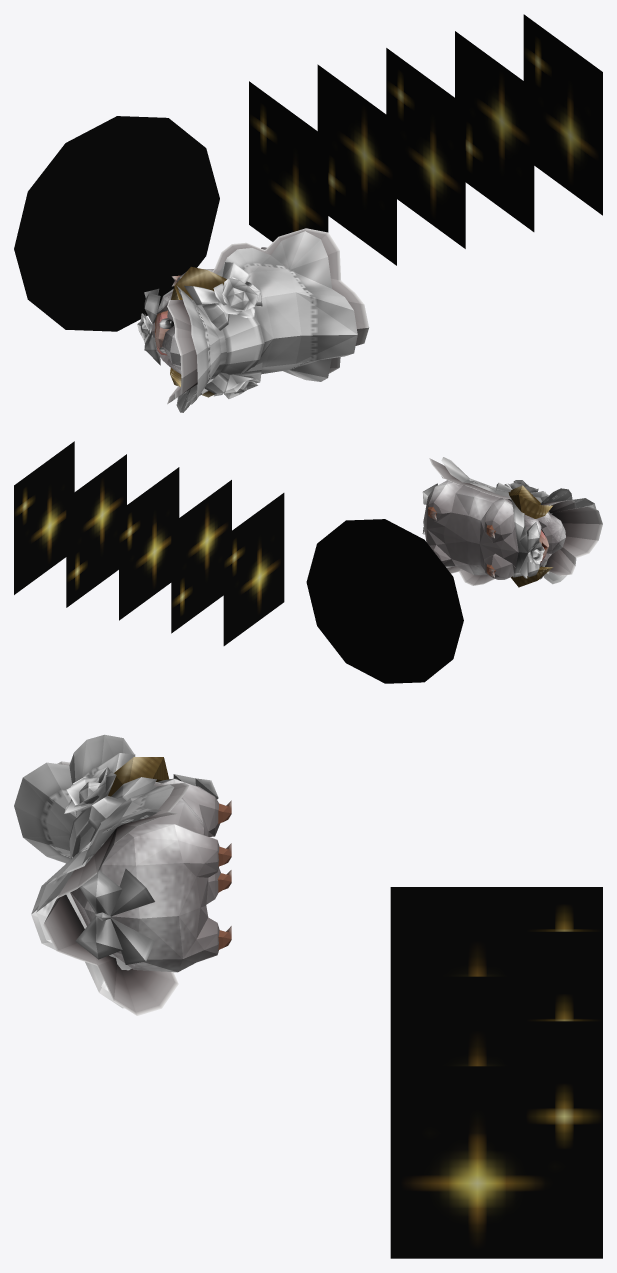
3 views of the same model, one above another, from view 1: azimuth 30°, elevation 25°; view 2: azimuth 150°, elevation 25°; view 3: azimuth 270°, elevation 25° (orthographic). The views are drawn at different scales.
Parts seen in each view (by area): view 1: M_0028_1, M_0028_0; view 2: M_0028_1, M_0028_0; view 3: M_0028_1, M_0028_0.
Boxes of the visible parts, x1,y1,x2,y2 form: M_0028_1: (167, 14, 602, 404); M_0028_0: (14, 116, 357, 412); M_0028_1: (14, 441, 602, 645); M_0028_0: (306, 457, 596, 683); M_0028_1: (43, 761, 602, 1258); M_0028_0: (14, 734, 231, 1008).
Bounding box in the file's own units: 5.84 × 2.16 × 4.
2 materials, 2 textured.
